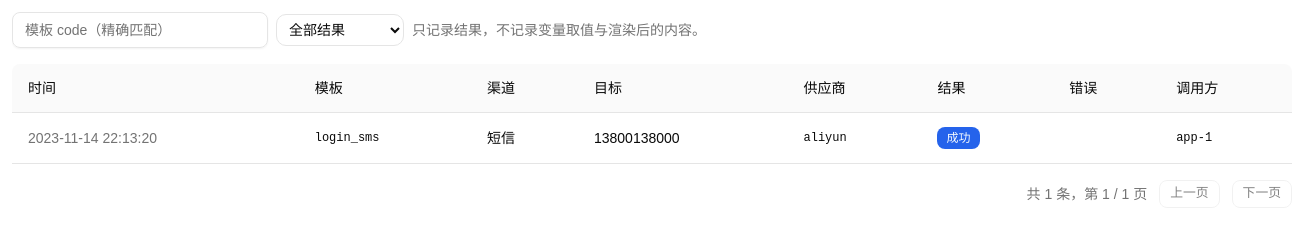
Test case: 按 code 与结果筛选，条件进查询串
This screenshot has width=1304, height=225.
Expected: the text "13800138000" is shown, [578, 112, 788, 163]
In the field named "按模板 code 筛选": (140, 30) [12, 12, 268, 48], type "login_sms"
Wait 300 ms
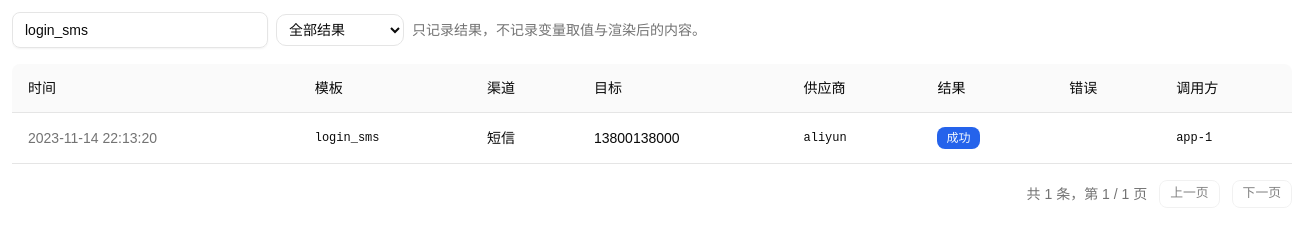
Select "失败" in the dropdown named "按结果筛选": (340, 30) [276, 14, 404, 46]
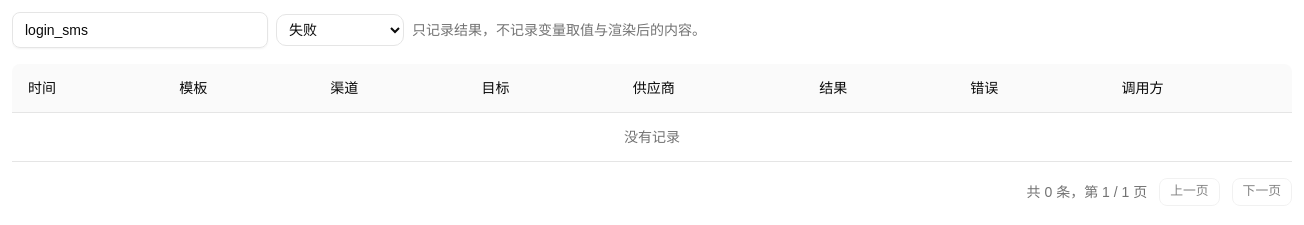
Now the text "没有记录" is shown, box [12, 112, 1292, 161]
